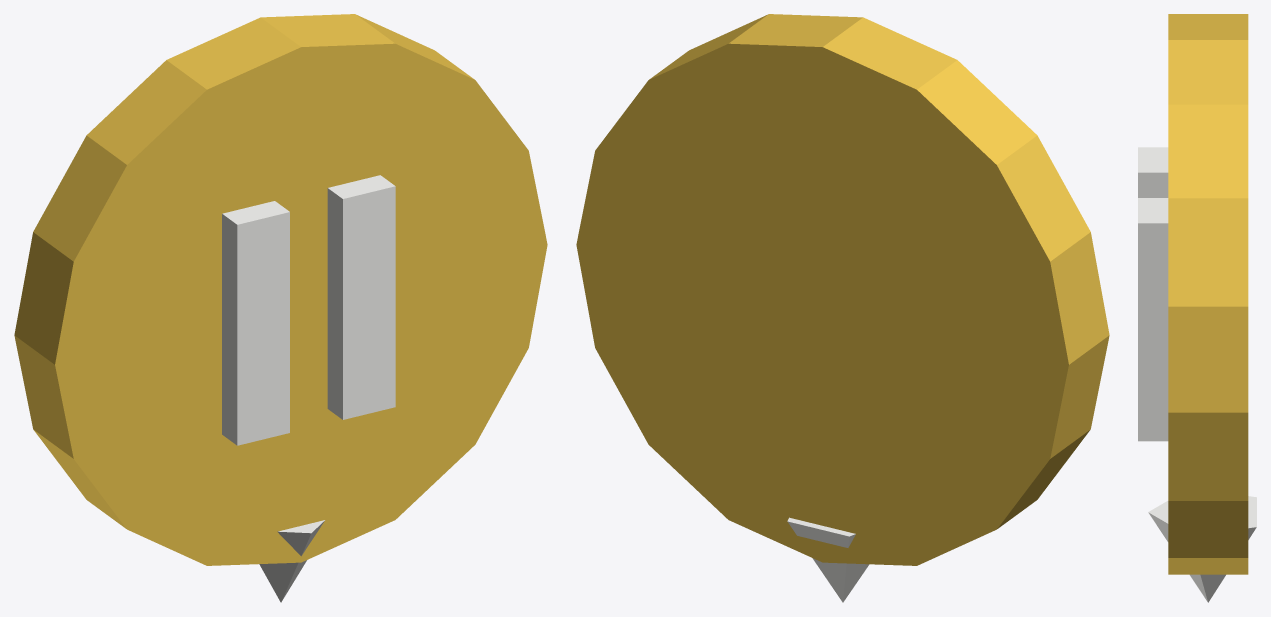
File: marker_pause.glb
3 views of the same model, side by side, from view 1: azimuth 30°, elevation 25°; view 2: azimuth 150°, elevation 25°; view 3: azimuth 270°, elevation 25° (orthographic).
Visible parts, largest first — view 1: marker_pause_disc, marker_pause; view 2: marker_pause_disc, marker_pause; view 3: marker_pause_disc, marker_pause.
Part boxes in pixels (x1,y1,x2,y2): marker_pause_disc: (14, 14, 547, 565); marker_pause: (222, 175, 395, 602); marker_pause_disc: (576, 14, 1109, 565); marker_pause: (787, 517, 869, 602); marker_pause_disc: (1168, 14, 1248, 574); marker_pause: (1138, 147, 1256, 602).
Size of the model in its own units: 0.28 by 0.31 by 0.0593.
2 materials, 1 textured.
